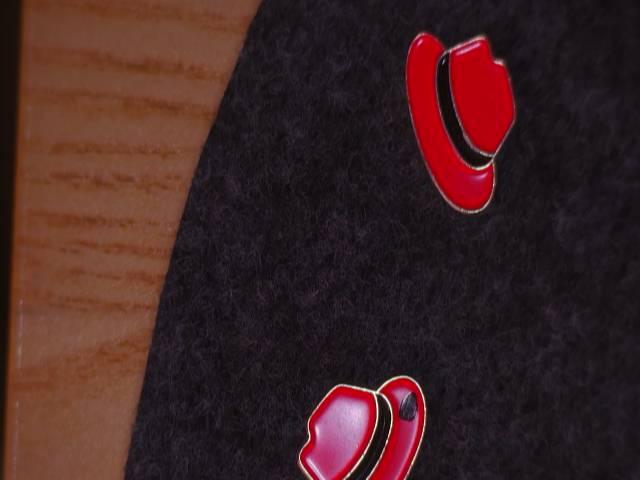Red-Hat: (371, 10, 536, 250), (288, 358, 437, 480)
Scratch: (392, 379, 427, 430)
